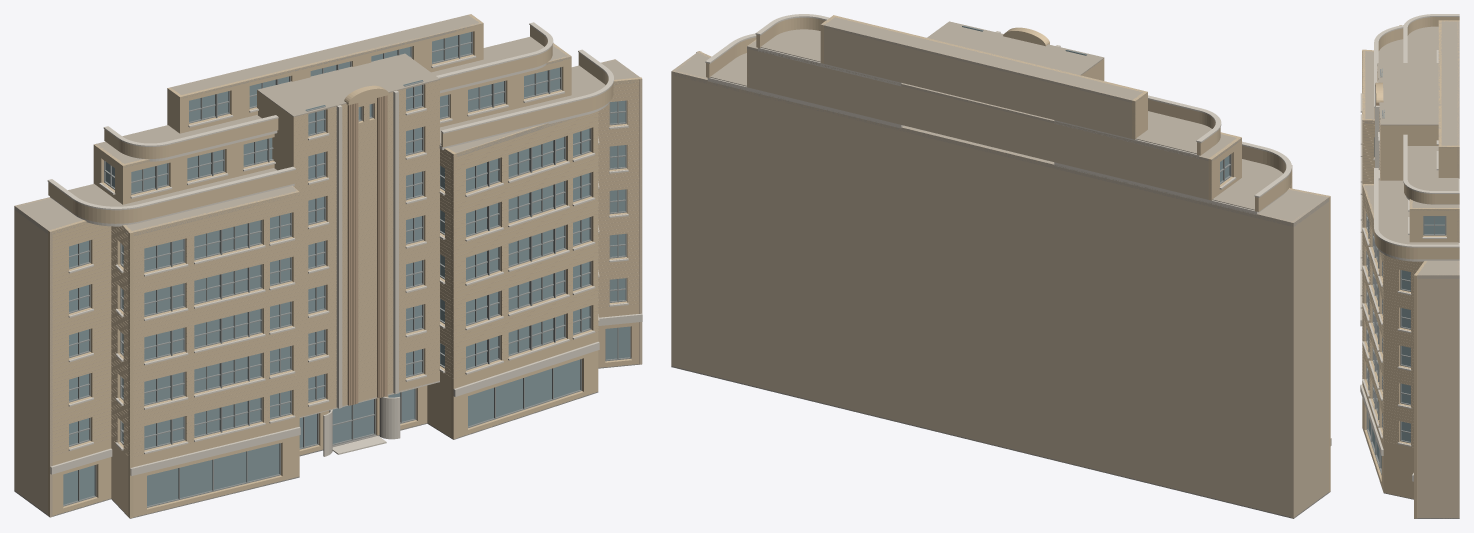
The model's file is xuhui-hanray-mansions-raw.glb.
3 views of the same model, side by side, from view 1: azimuth 30°, elevation 25°; view 2: azimuth 150°, elevation 25°; view 3: azimuth 270°, elevation 25° (orthographic). The views are drawn at different scales.
Visible parts, largest first — view 1: 亨利公寓（淮中大楼）淮海中路门面与弧形露台; view 2: 亨利公寓（淮中大楼）淮海中路门面与弧形露台; view 3: 亨利公寓（淮中大楼）淮海中路门面与弧形露台.
Part boxes in pixels (bbox=[...]): 亨利公寓（淮中大楼）淮海中路门面与弧形露台: bbox=[14, 14, 642, 518]; 亨利公寓（淮中大楼）淮海中路门面与弧形露台: bbox=[671, 14, 1331, 518]; 亨利公寓（淮中大楼）淮海中路门面与弧形露台: bbox=[1360, 14, 1459, 518].
Bounding box in the file's own units: 44.57 × 25.92 × 7.49.
